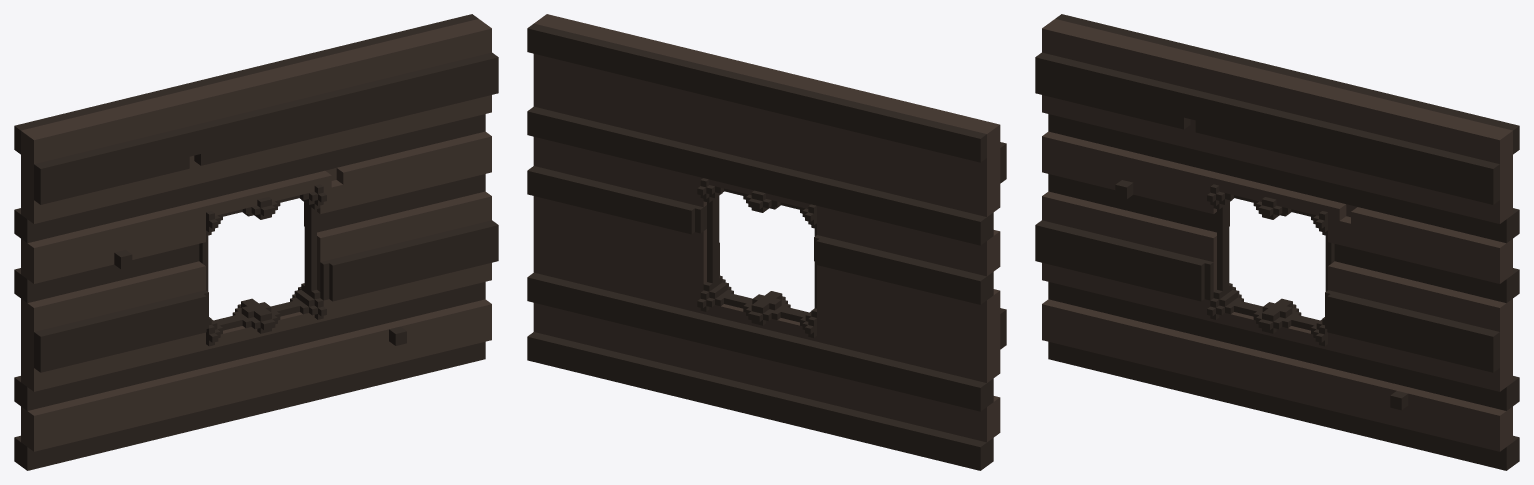
Rendered from WallWindowLess.obj.
The picture shows the model from 3 angles, left to right: view 1: azimuth 30°, elevation 25°; view 2: azimuth 150°, elevation 25°; view 3: azimuth 330°, elevation 25°; orthographic projection.
Bounding box in the file's own units: 8 × 5.6 × 0.8.
1 material, 1 textured.
